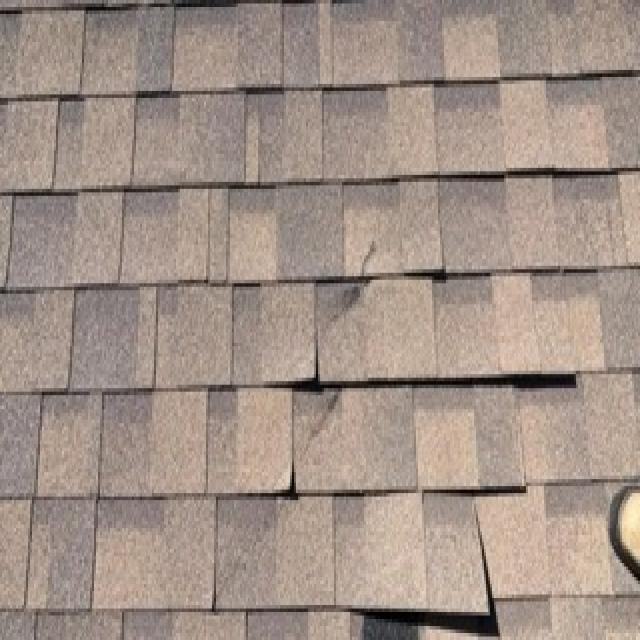damage: (347, 487, 502, 640), (291, 238, 388, 465)
